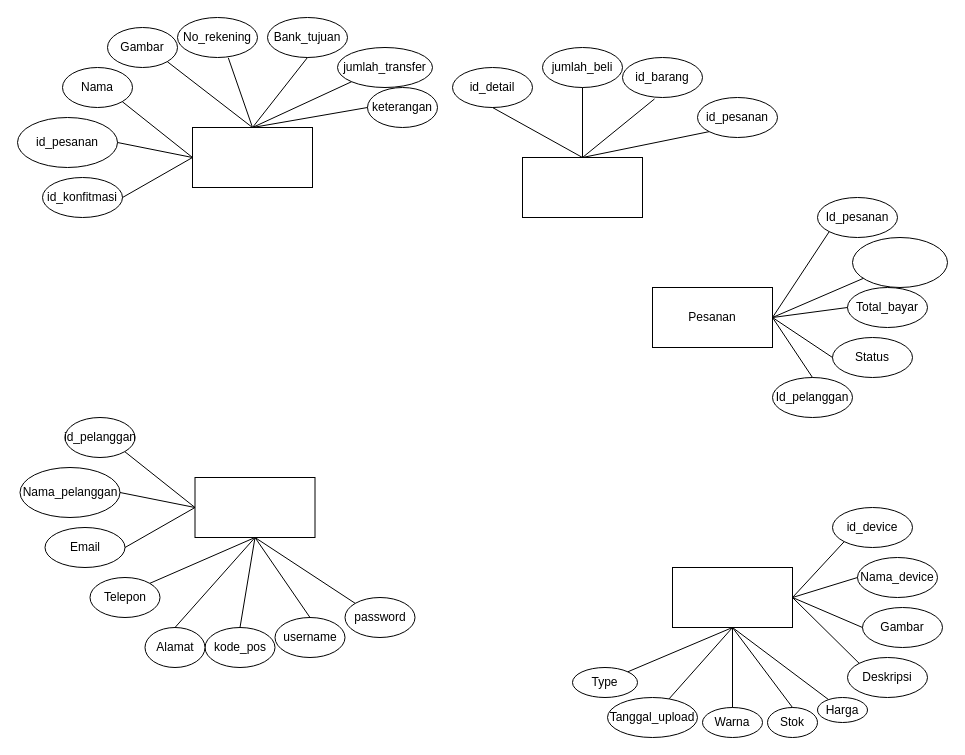
Image size: 965x755. Some labels were removed from this diagram. Each missing label, with the centre of its shape:
"Admin(mungkin)" belongs at (252,157).
"Detail Pesanan" belongs at (582,187).
"Pelanggan" belongs at (254,507).
"Produk" belongs at (732,597).
"Tanggal_pesanan" belongs at (900,262).
